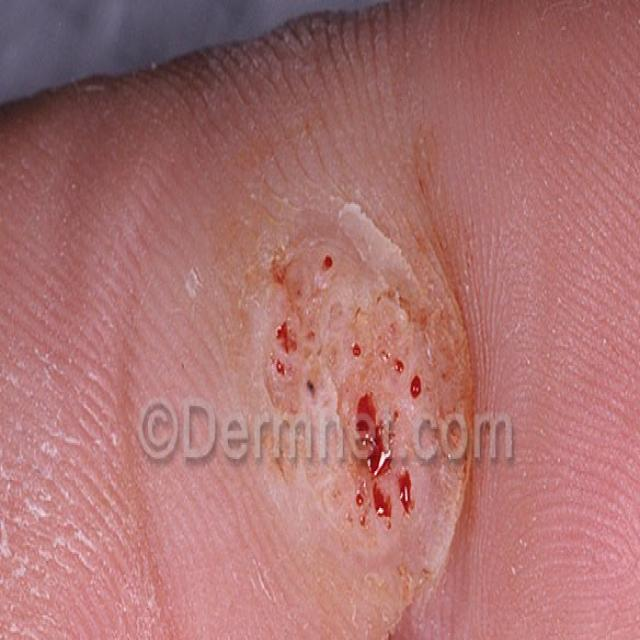Warts: (201, 147, 509, 622)
